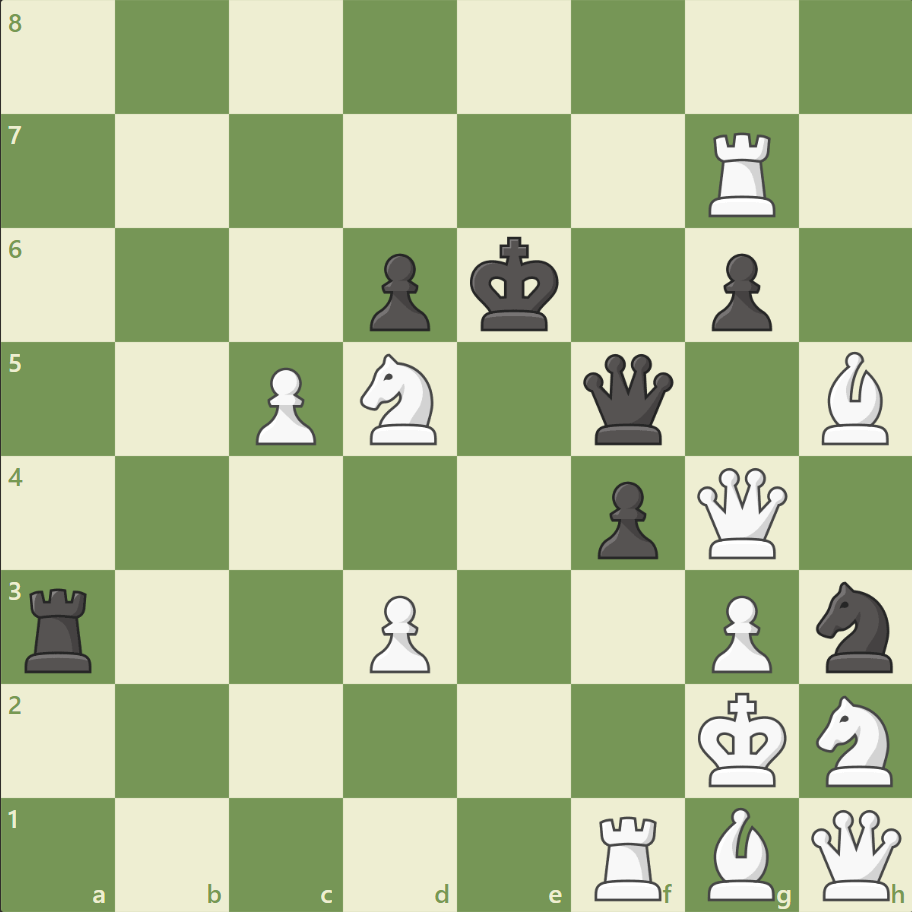B: (698, 801, 782, 904), (812, 347, 896, 449)
K: (692, 685, 792, 793)
N: (351, 348, 449, 450), (806, 688, 903, 791)
P: (247, 359, 322, 450), (701, 586, 776, 677), (361, 586, 435, 677)
Q: (691, 463, 790, 562), (805, 804, 904, 903)
R: (587, 806, 670, 904), (700, 125, 783, 222)
k: (465, 231, 565, 339)
n: (806, 575, 903, 677)
p: (701, 246, 776, 337), (361, 246, 435, 337), (588, 473, 662, 564)
q: (578, 349, 677, 449)
r: (19, 579, 102, 676)
